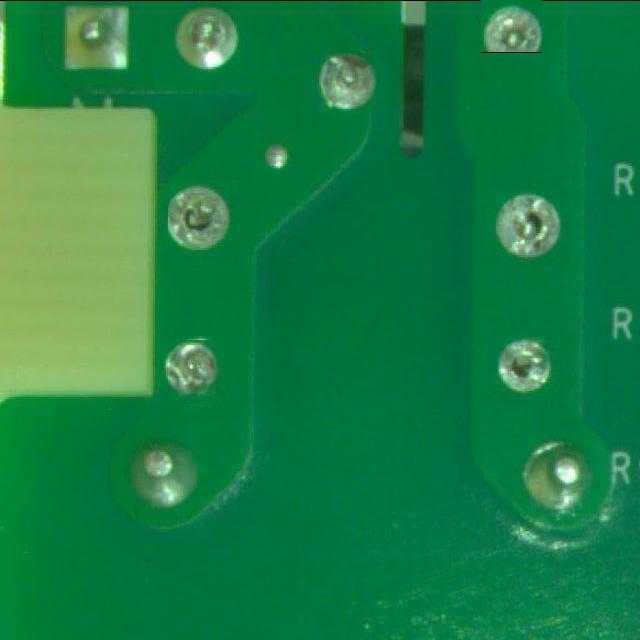lack_of_part: (486, 188, 569, 265), (164, 183, 240, 260), (493, 334, 565, 405), (165, 337, 228, 401), (314, 54, 380, 114), (482, 0, 544, 53)
